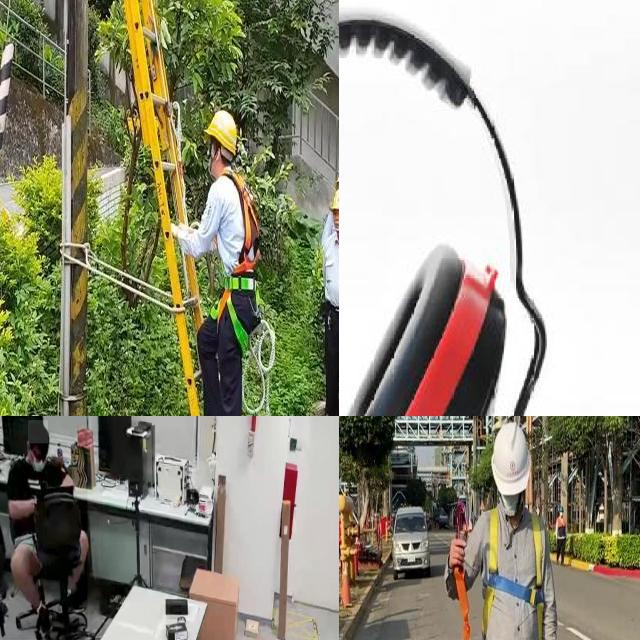Ear-protection: (339, 31, 549, 416)
Harness: (207, 170, 267, 368), (484, 508, 546, 640), (454, 569, 470, 640)
face_mask: (28, 448, 46, 475)
head_nohelmet: (28, 420, 48, 444)
person: (0, 416, 88, 640)
shoes: (32, 599, 53, 637)
